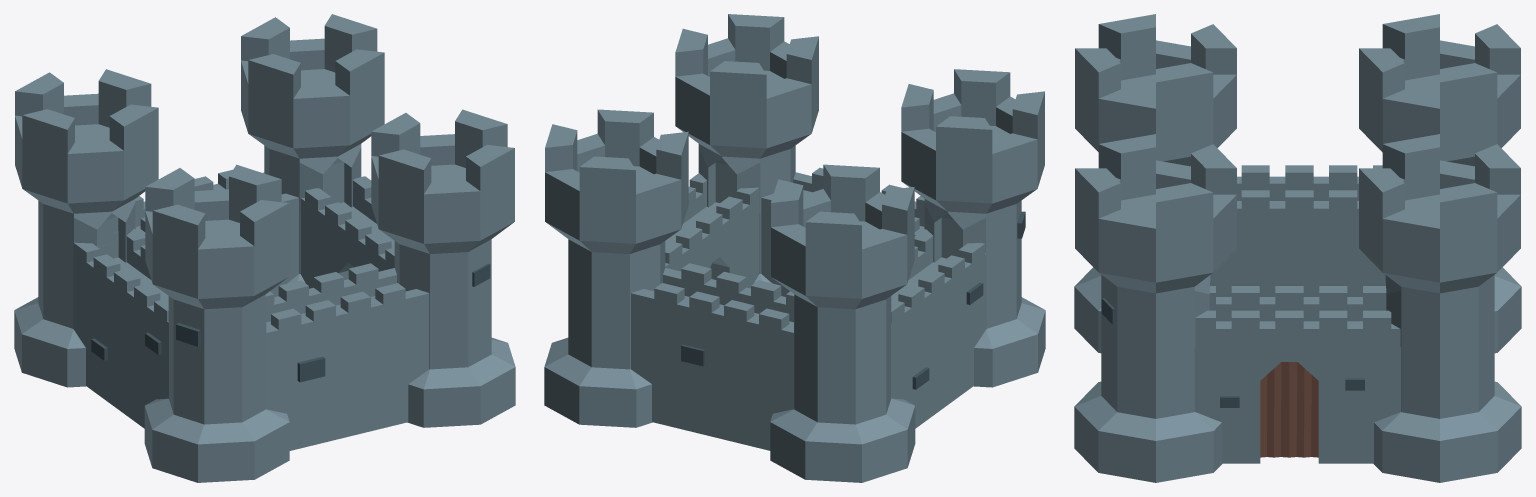
File: castle.obj
The picture shows the model from 3 angles, left to right: view 1: azimuth 30°, elevation 25°; view 2: azimuth 150°, elevation 25°; view 3: azimuth 270°, elevation 25°; orthographic projection. The views are drawn at different scales.
Visible parts, largest first — view 1: Castle_Cube.032; view 2: Castle_Cube.032; view 3: Castle_Cube.032.
Boxes of the visible parts, box(x1,y1,x2,y2) form: Castle_Cube.032: box(14, 14, 515, 482); Castle_Cube.032: box(544, 14, 1045, 482); Castle_Cube.032: box(1074, 14, 1521, 482).
Bounding box in the file's own units: 14.43 × 10.04 × 14.43.
